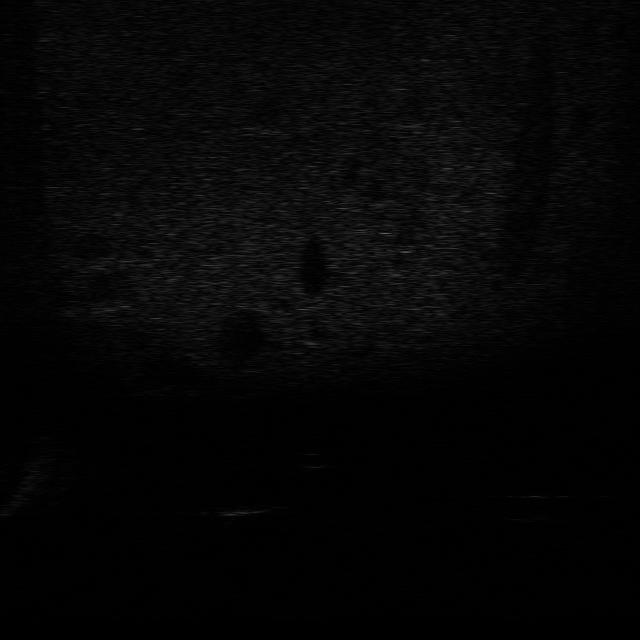ball: (289, 449, 335, 473)
square cage: (208, 490, 282, 523)
tyre: (505, 486, 557, 527)
